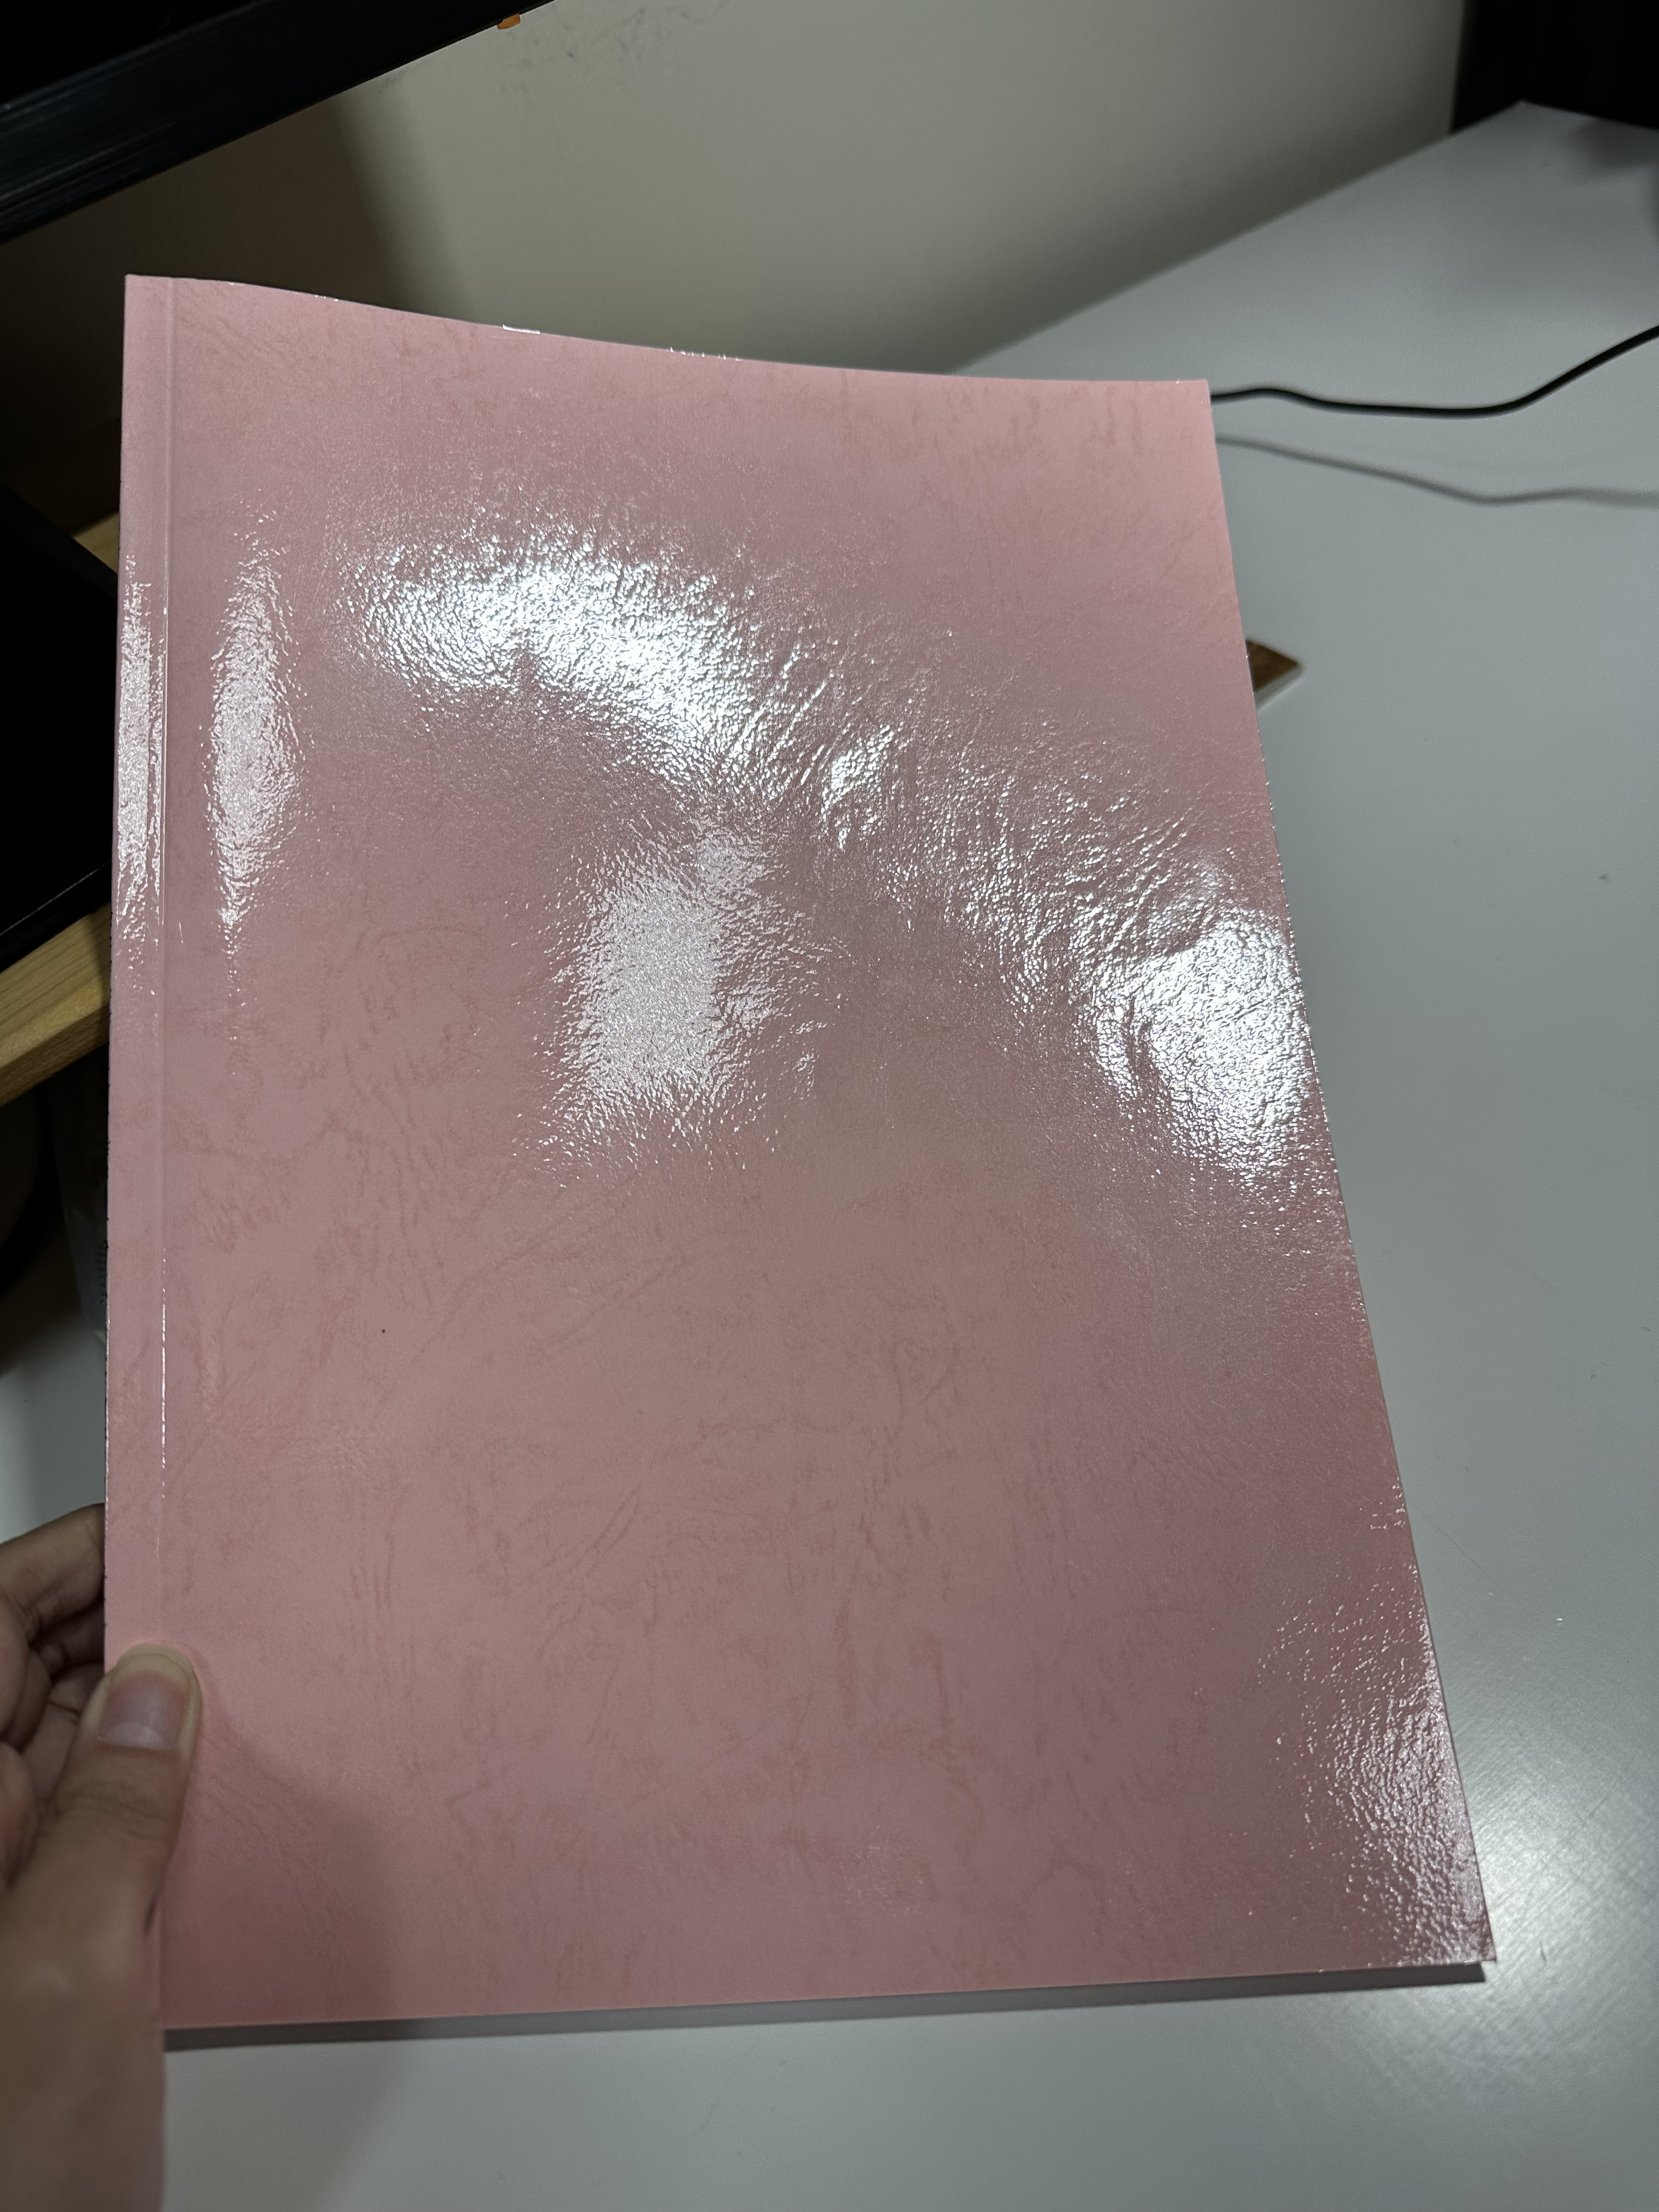book: (85, 272, 1502, 2050)
